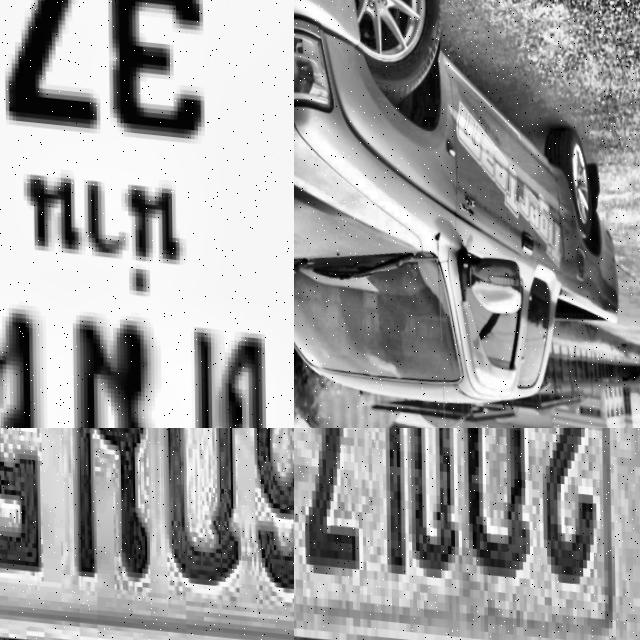license-plate: (0, 0, 294, 428), (294, 428, 640, 640), (0, 428, 294, 640)
